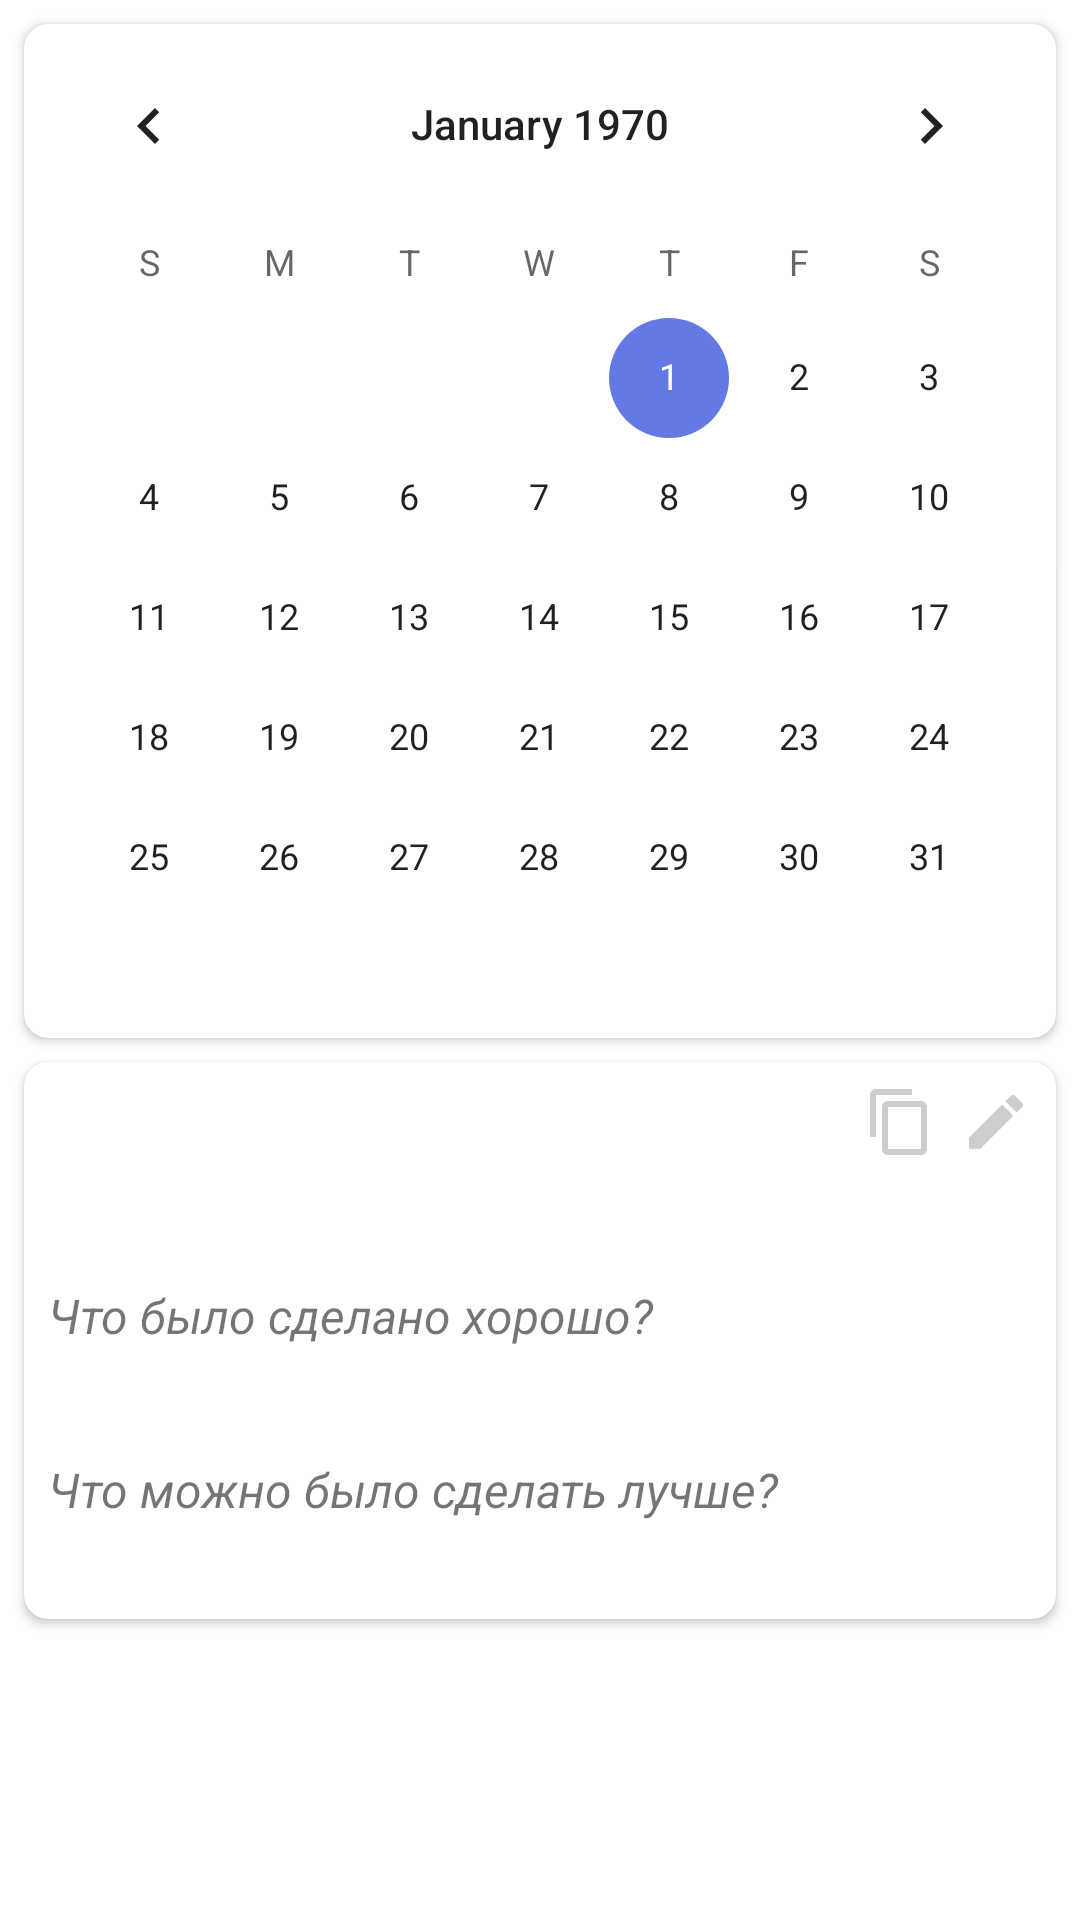

Icon bounding boxes for this 1080 x 1920 phone screenshot, format (x1,y1,x2,y2):
edit: (969,1095,1023,1149)
